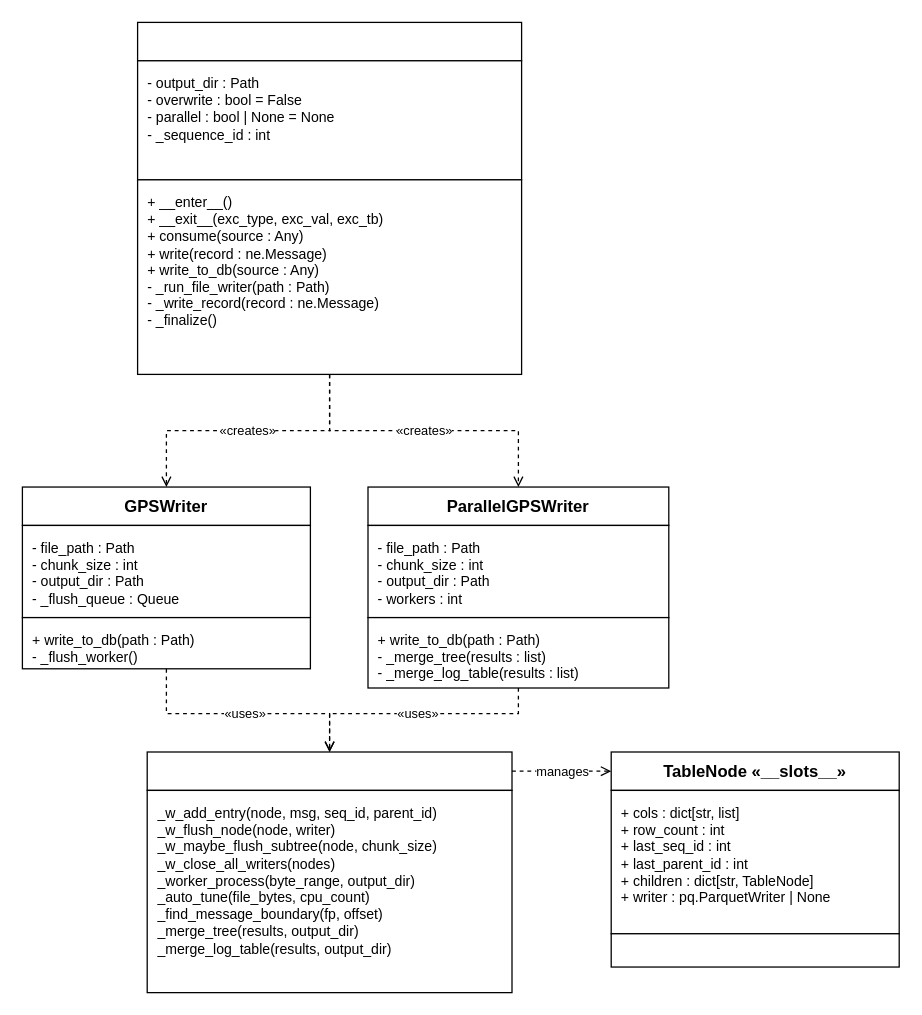
Some shapes in this 922 by 1015 pixel diagram are drawn without their labels. The shapes that lost their labels are listed below. From the top down, each one's centre as x and y in pixels, then its label:
point 329,41: PqConverter
point 329,770: «module» _engine.py
point 754,949: «managed by _w_* module functions»
